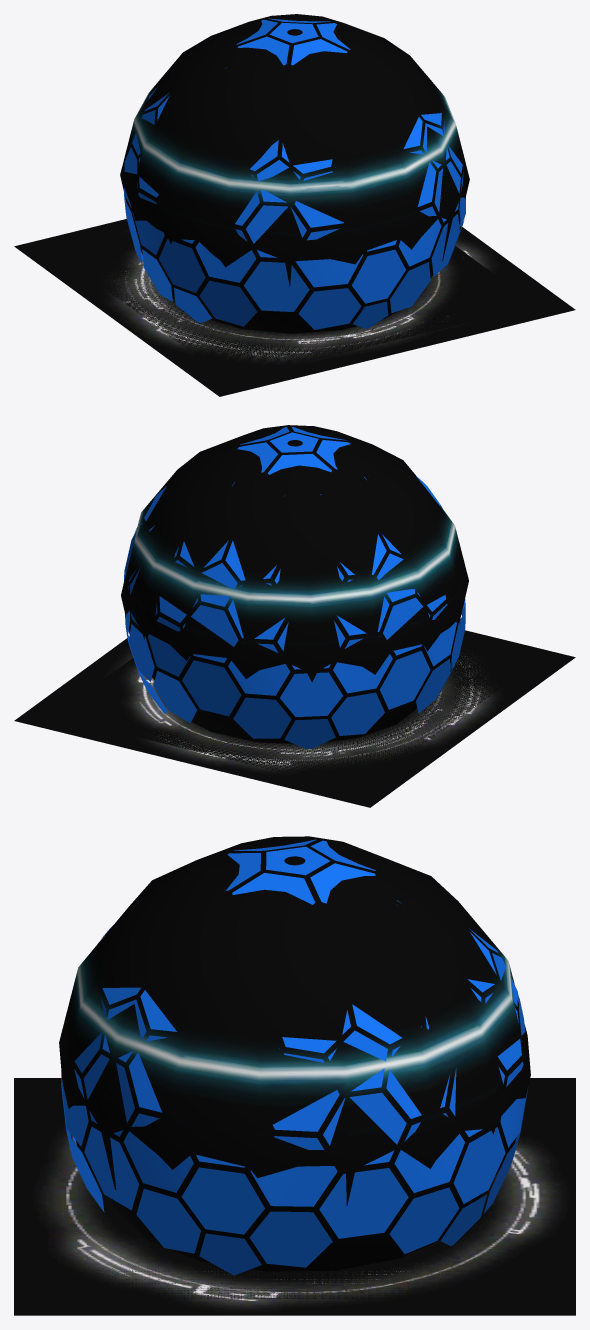
Rendered from Effect_1221skill_S.fbx.
The picture shows the model from 3 angles, top to bottom: view 1: azimuth 30°, elevation 25°; view 2: azimuth 150°, elevation 25°; view 3: azimuth 270°, elevation 25°; orthographic projection. The views are drawn at different scales.
Visible parts, largest first — view 1: Effect_1021tshow04, Effect_1021tshow03, Effect_1021tshow02, Effect_1021tshow01; view 2: Effect_1021tshow04, Effect_1021tshow03, Effect_1021tshow02, Effect_1021tshow01; view 3: Effect_1021tshow04, Effect_1021tshow02, Effect_1021tshow03, Effect_1021tshow01.
Part boxes in pixels (<box>): Effect_1021tshow04: <box>120,14,469,333</box>; Effect_1021tshow03: <box>124,18,465,329</box>; Effect_1021tshow02: <box>14,219,575,396</box>; Effect_1021tshow01: <box>53,232,536,380</box>; Effect_1021tshow04: <box>121,425,468,743</box>; Effect_1021tshow03: <box>124,427,465,748</box>; Effect_1021tshow02: <box>14,630,575,807</box>; Effect_1021tshow01: <box>53,643,536,791</box>; Effect_1021tshow04: <box>59,836,530,1271</box>; Effect_1021tshow02: <box>14,1078,575,1315</box>; Effect_1021tshow03: <box>61,839,528,1275</box>; Effect_1021tshow01: <box>53,1113,536,1299</box>.
Bounding box in the file's own units: 3.43 × 2.29 × 3.43.
Materials: 3 (2 with a texture image).
